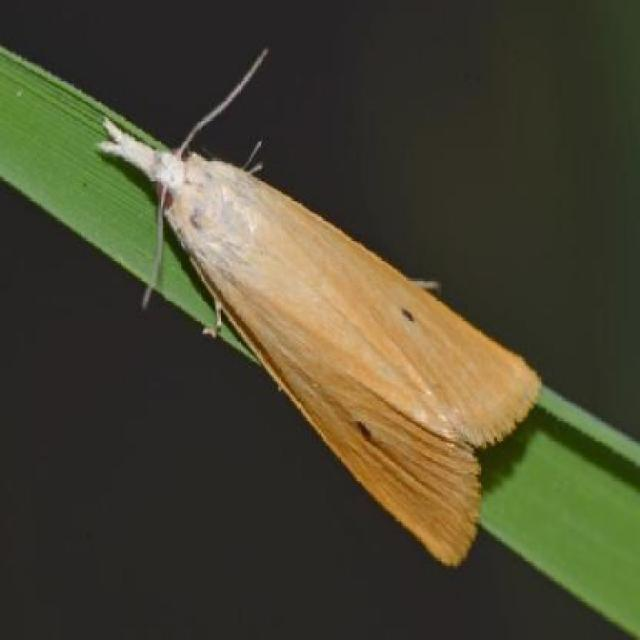stem-borer: (95, 71, 543, 575)
